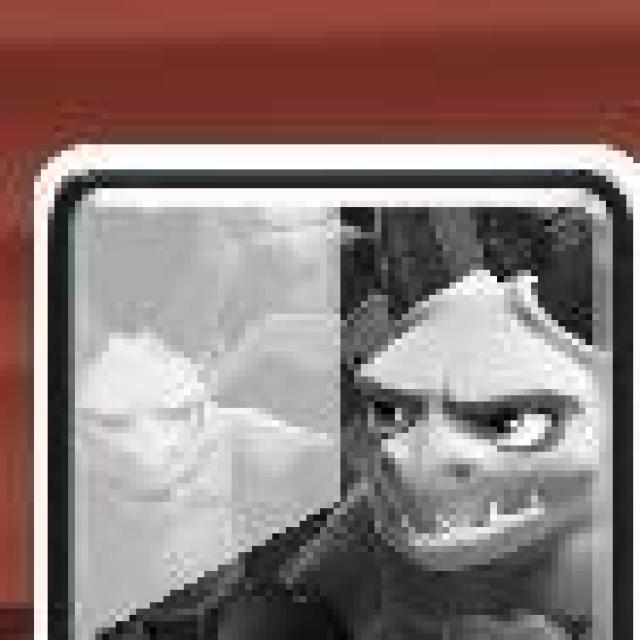Minion_Horde: (31, 146, 640, 640)
